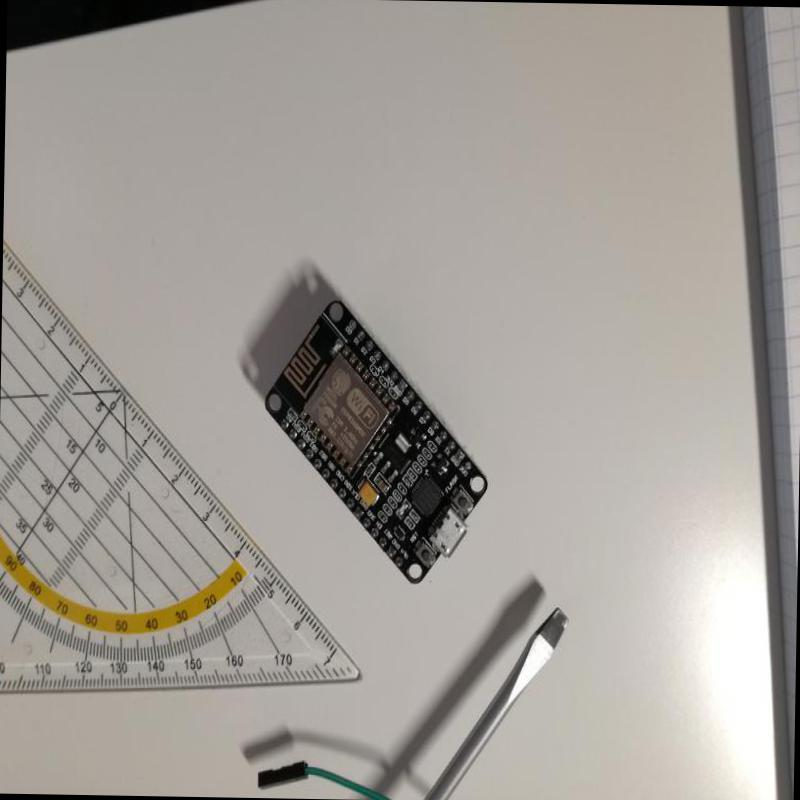ESP8266: (246, 296, 496, 591)
